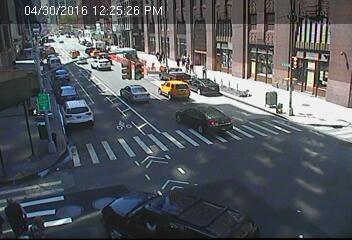neg: (61, 59, 93, 102), (183, 97, 215, 139), (271, 149, 302, 190), (117, 51, 145, 88), (235, 29, 261, 64), (137, 149, 163, 183), (263, 84, 288, 118), (314, 29, 339, 63), (98, 188, 121, 217), (35, 133, 55, 160), (47, 21, 66, 46)
pos: (4, 196, 32, 232), (199, 63, 210, 78), (188, 61, 198, 74)
